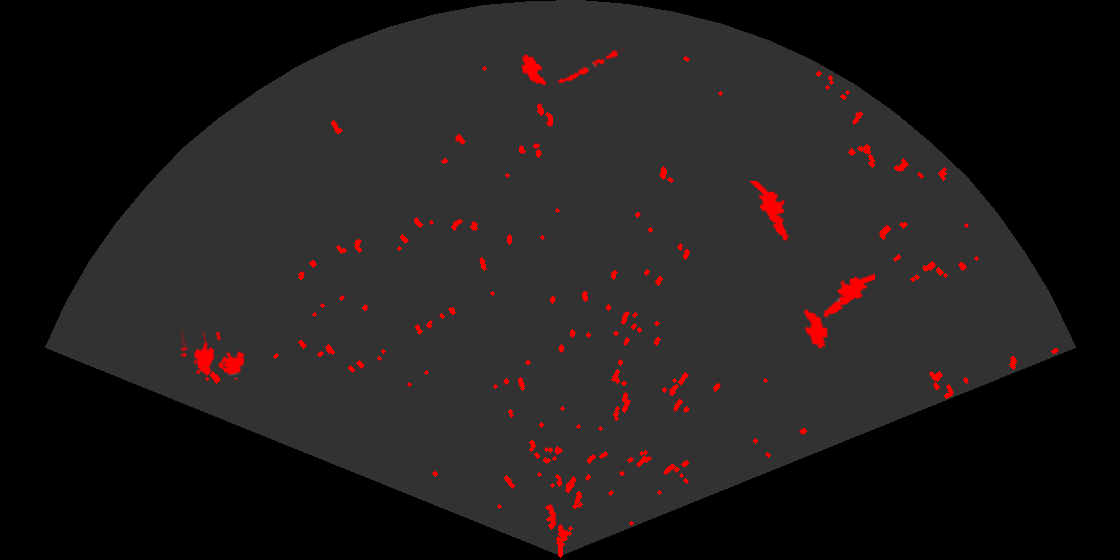AUV: (802, 307, 830, 350), (519, 53, 548, 87)
cage: (181, 332, 246, 383)
chain: (555, 46, 624, 85)
frogman: (748, 181, 790, 243), (821, 272, 875, 319)
